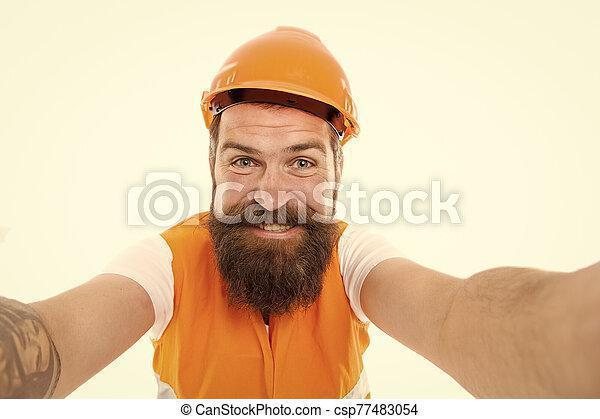helmet: (200, 26, 360, 144)
